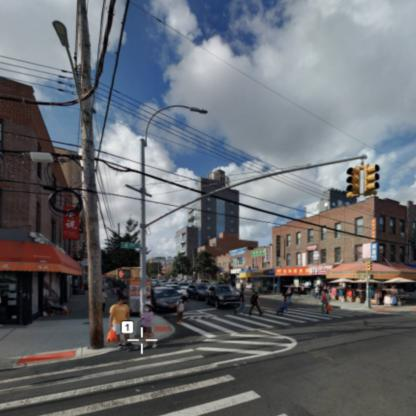Streetlights 1: (110, 79, 233, 373)
